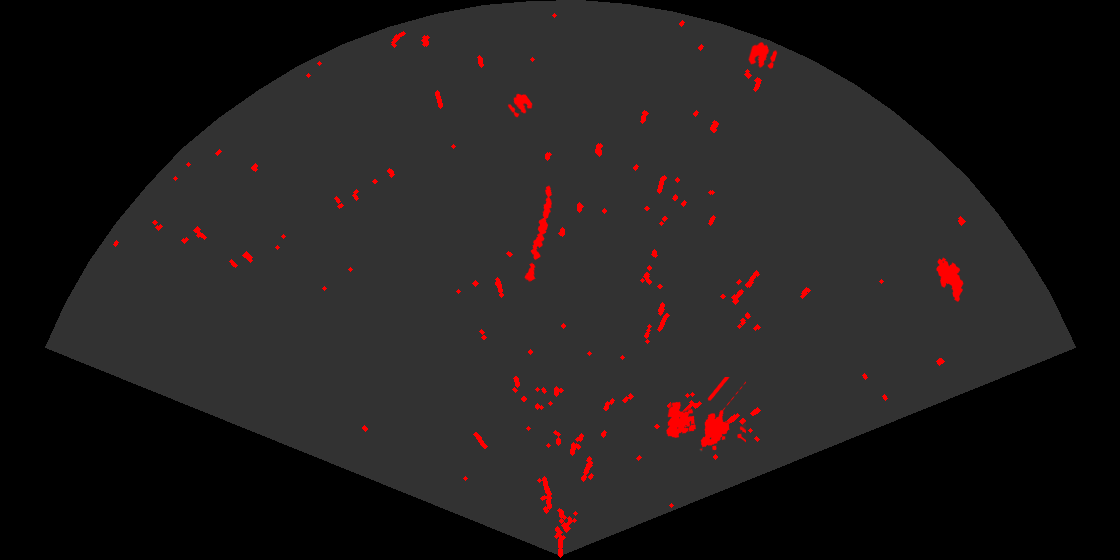AUV: (935, 256, 965, 304)
ball: (747, 40, 779, 71), (506, 92, 534, 119)
cage: (665, 377, 746, 452)
chain: (523, 184, 554, 284)
